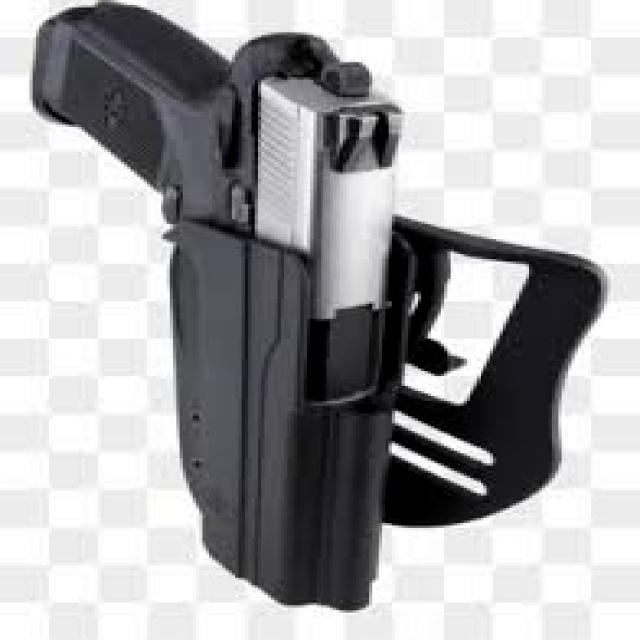semi automatic: (22, 4, 620, 628)
